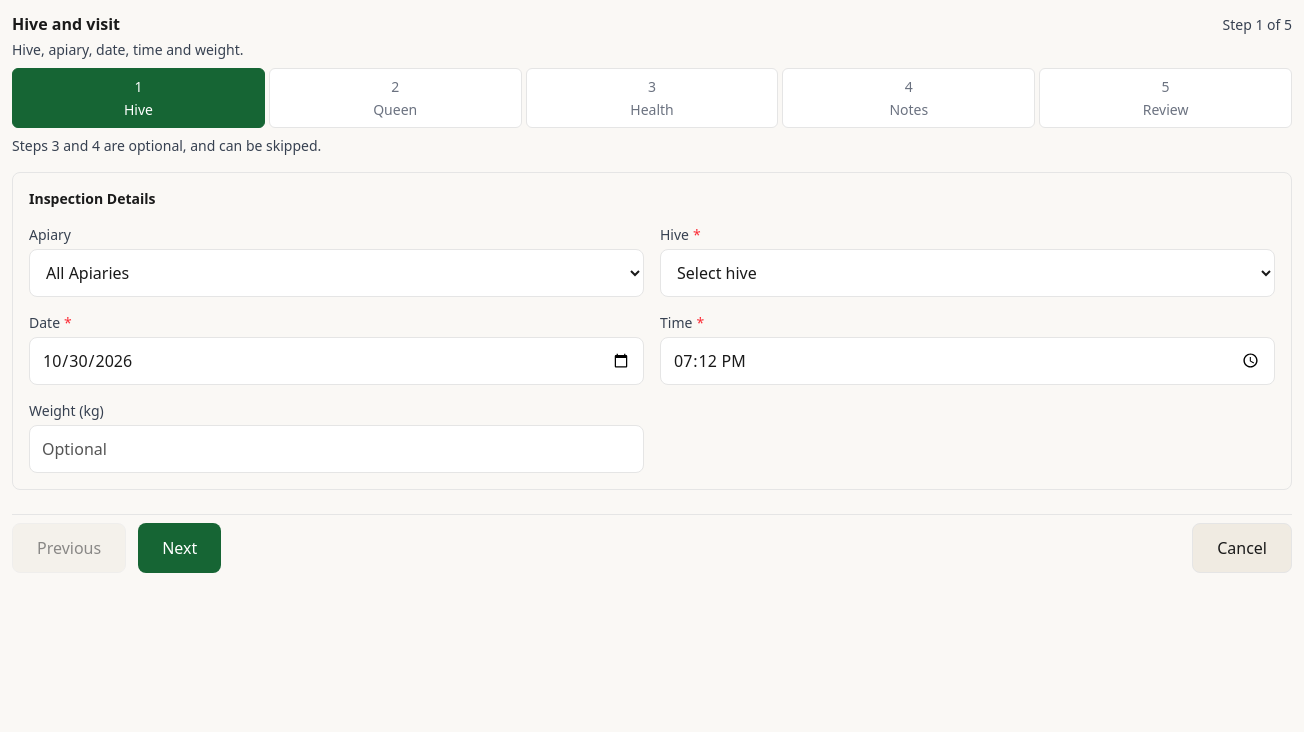
Scenario: previously-fixed mobile layouts survive the step grouping › names each rating group, rather than leaving a dangling label
Select "H1" in the dropdown labelled "Hive*": coordinates (968, 272) [660,248,1275,296]
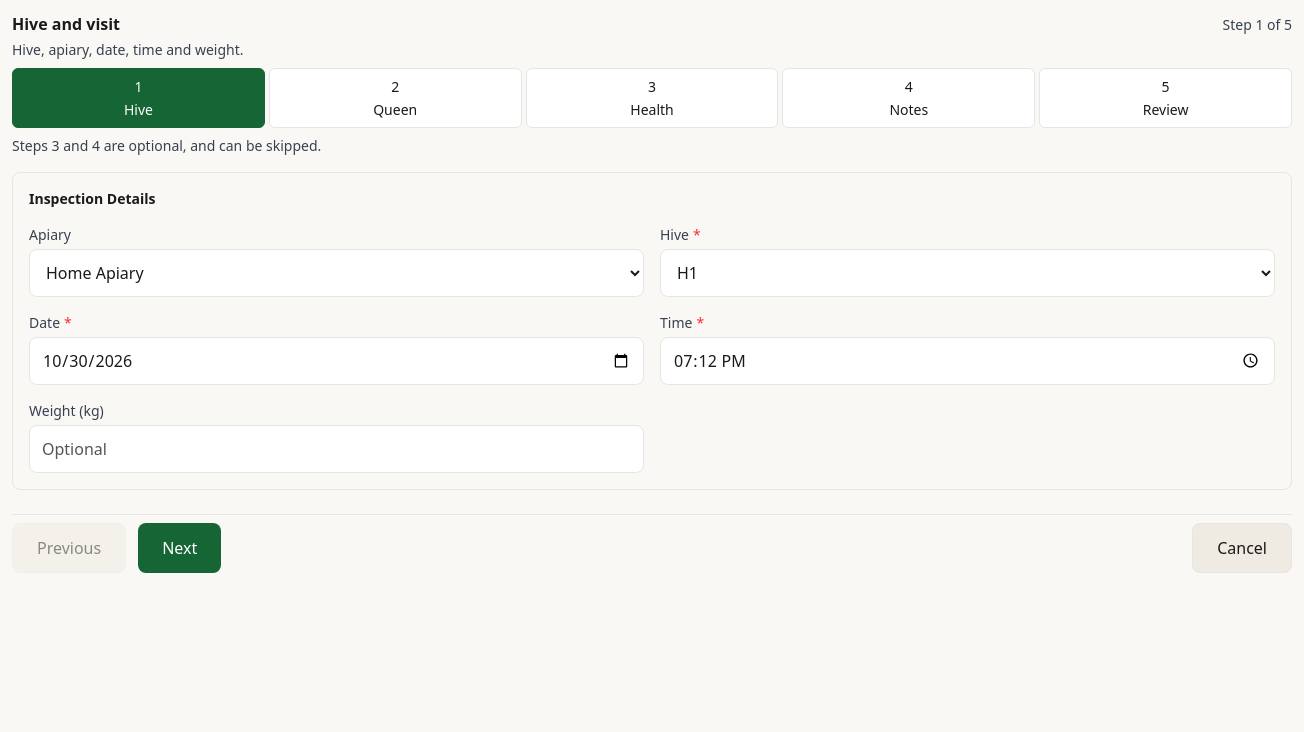
Click the button "Next": coordinates (180, 548) [138,522,221,572]
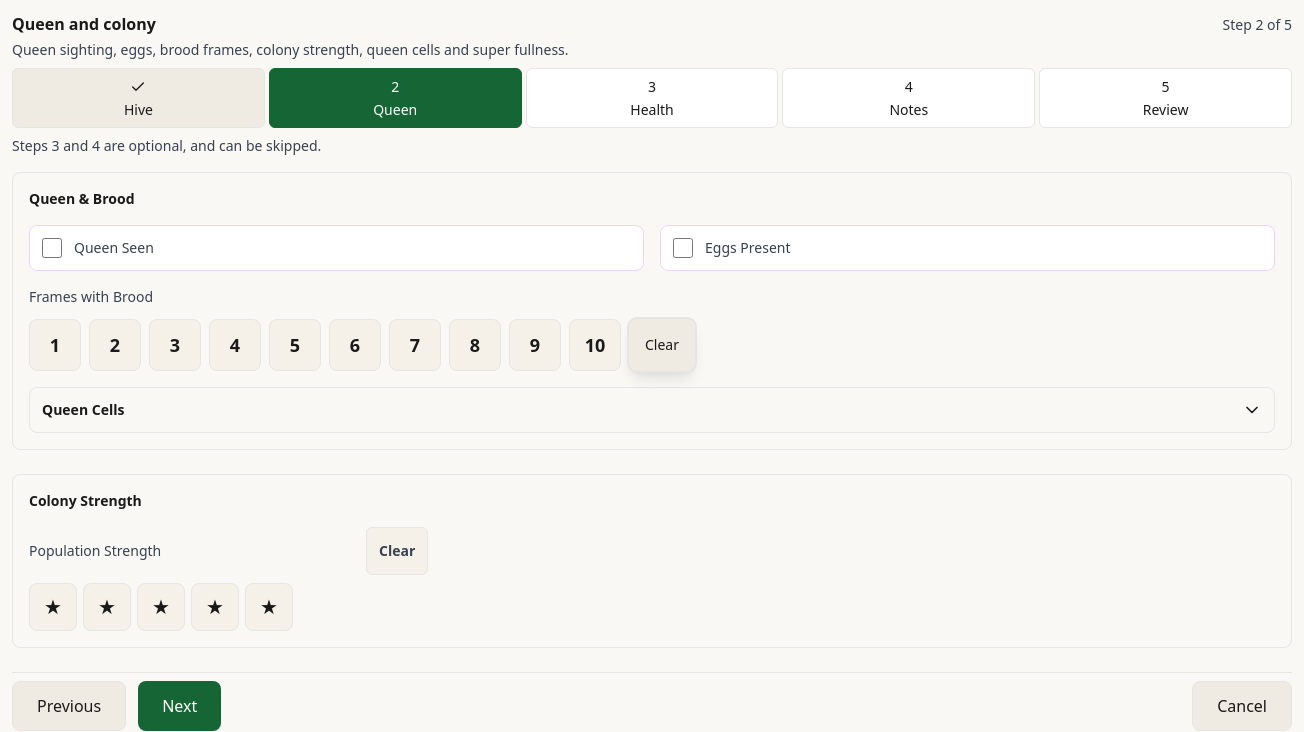
Click the button "Next": coordinates (180, 706) [138,680,221,730]
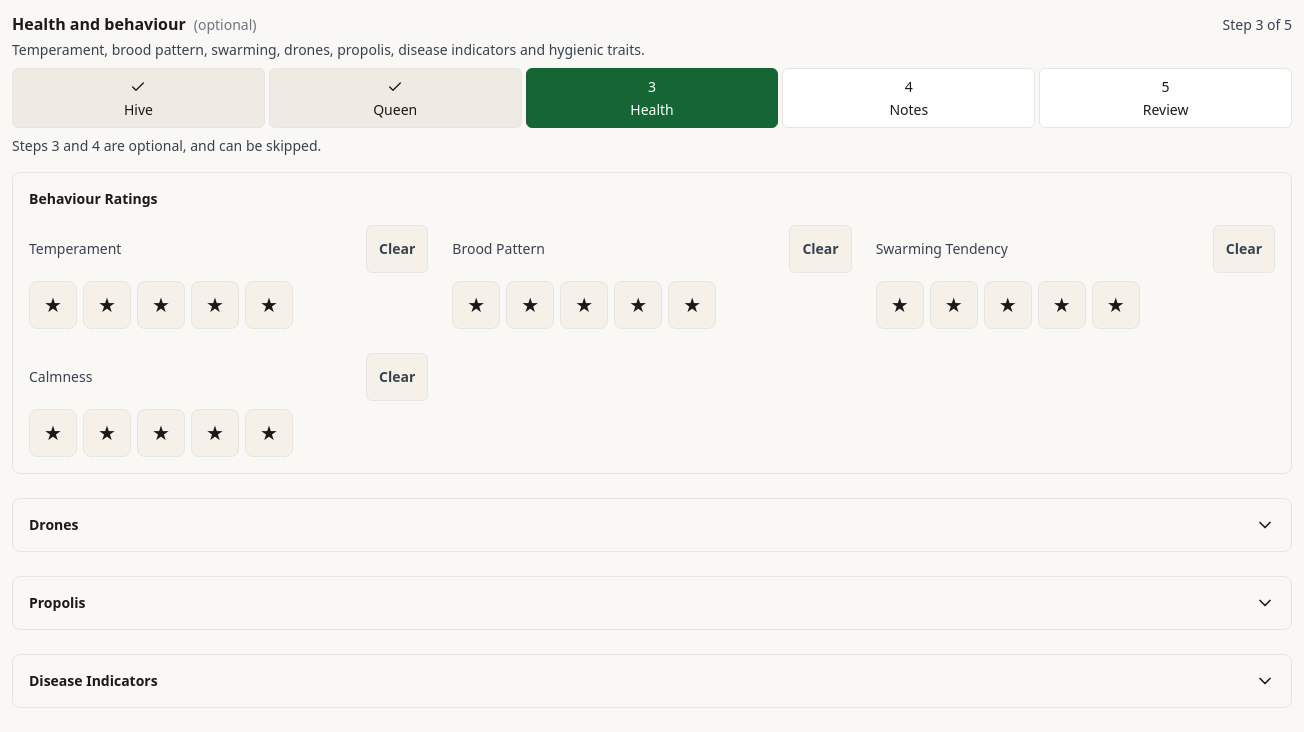
Expected: the element "Temperament" is shown, [29,224,428,328]
